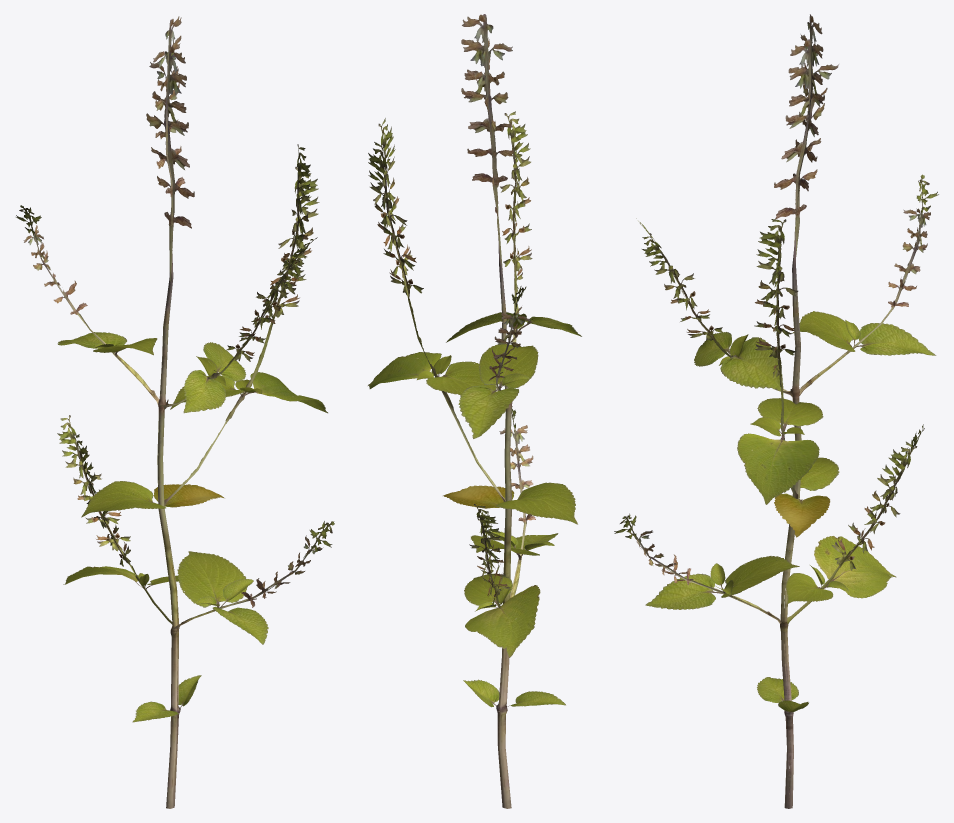
The model's file is shrub-03-c.glb.
3 views of the same model, side by side, from view 1: azimuth 30°, elevation 25°; view 2: azimuth 150°, elevation 25°; view 3: azimuth 270°, elevation 25° (orthographic). The views are drawn at different scales.
Visible parts, largest first — view 1: shrub_03_c; view 2: shrub_03_c; view 3: shrub_03_c.
Part boxes in pixels (x1,y1,x2,y2): shrub_03_c: [16, 16, 334, 808]; shrub_03_c: [368, 14, 581, 808]; shrub_03_c: [614, 14, 938, 808].
Size of the model in its own units: 0.0958 by 0.3044 by 0.1132.
Materials: 1 (1 with a texture image).
